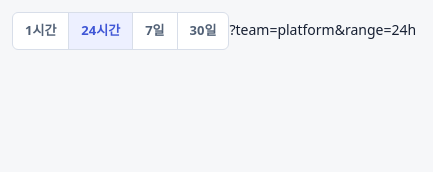
Test: health UI primitives › stores the selected range in the URL while preserving other filters
This screenshot has width=433, height=172.
expect the text "?team=platform&range=24h" is shown: met, box 229,20 -> 416,39
Step 1. Click the button "7일" → (155, 31), box 133,13 -> 178,49
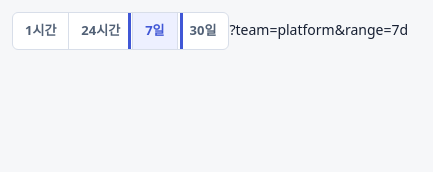
expect the text "?team=platform&range=7d" is shown: met, box 229,20 -> 408,39
